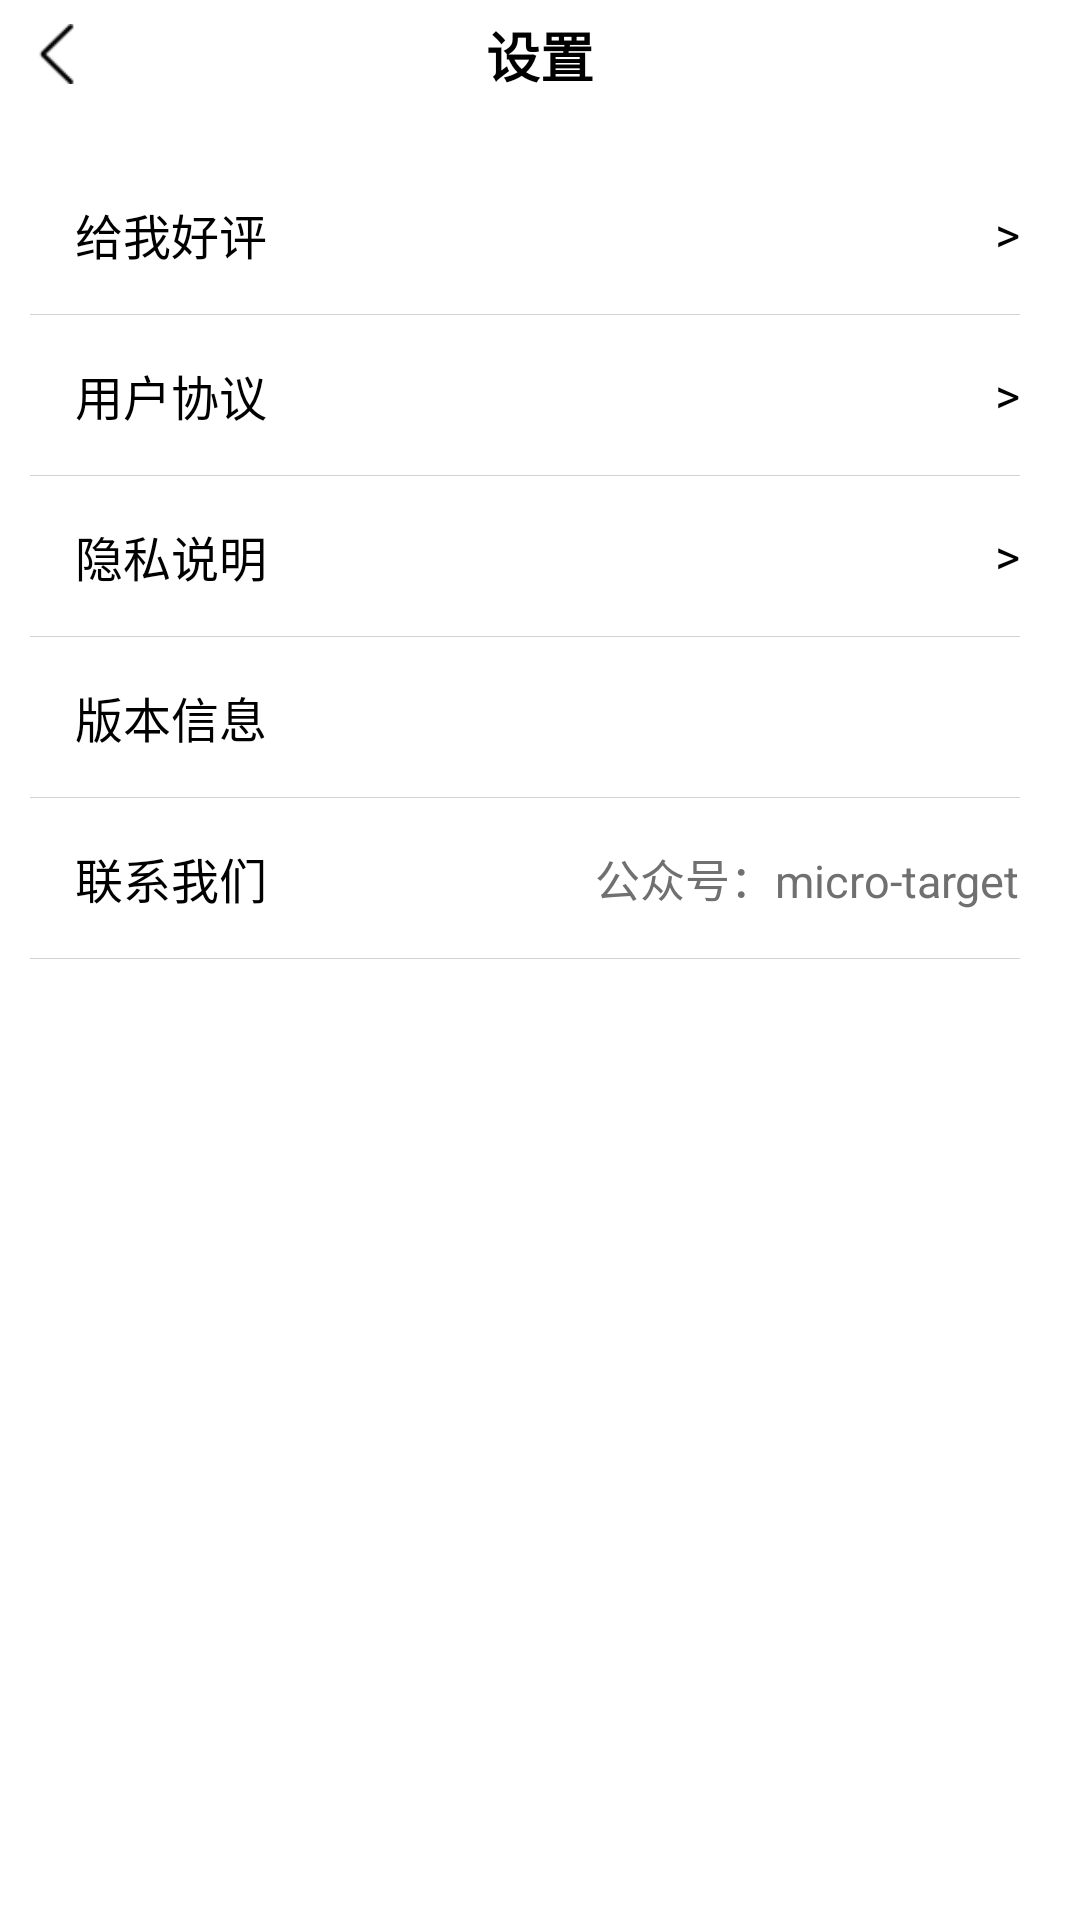

Where icons sit on this 1080px x 1920px app screen, as (x1, y1, x2, y2):
back: (39, 24, 74, 84)
